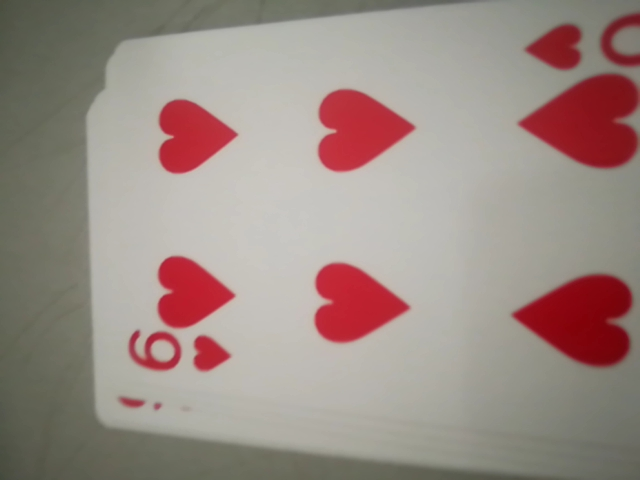hx 6: (114, 324, 236, 392)
